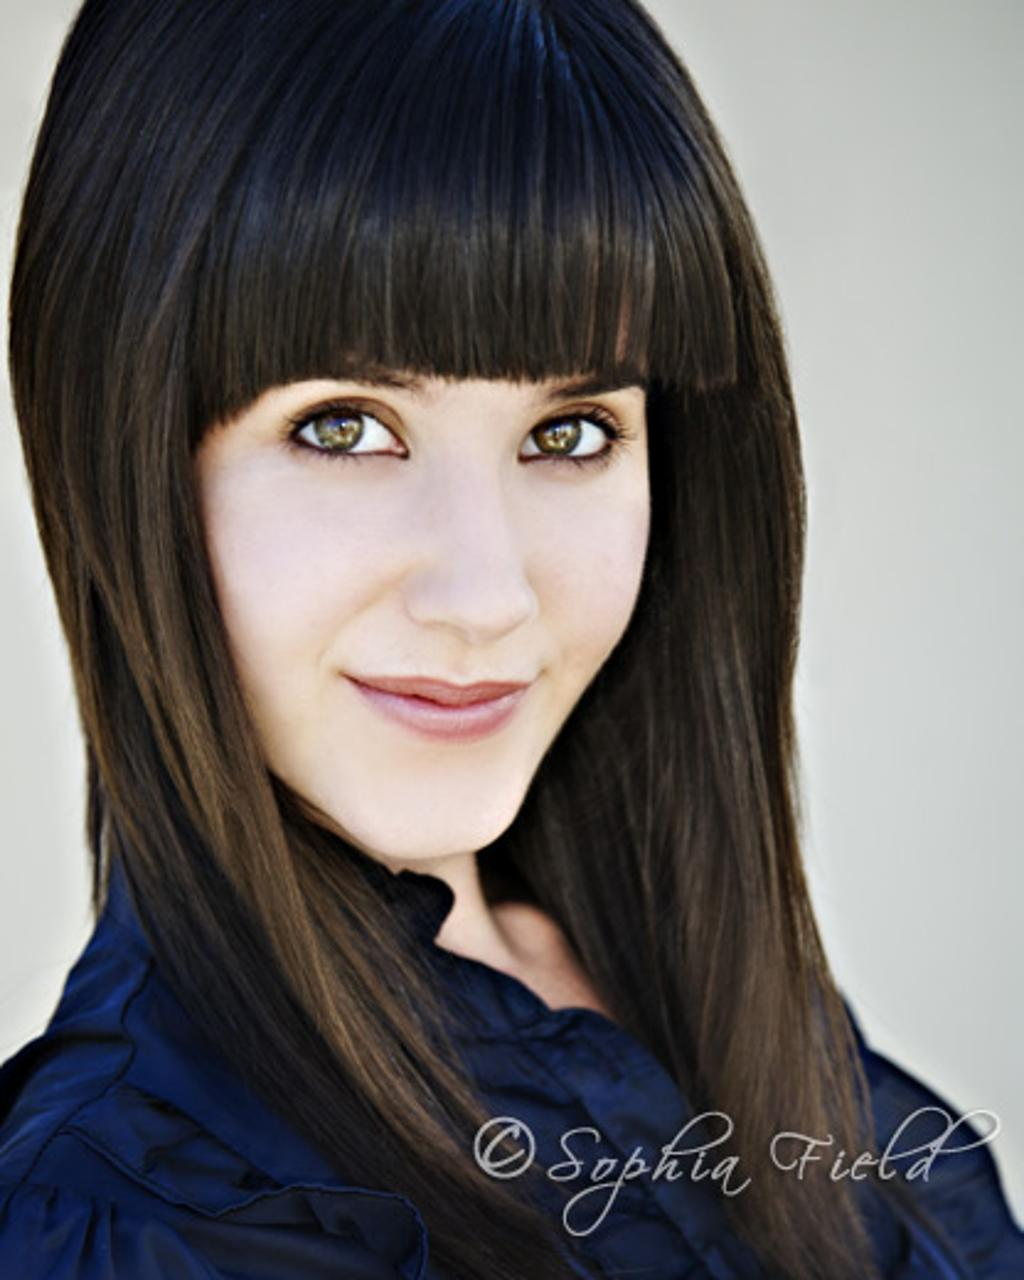face: (185, 260, 650, 859)
